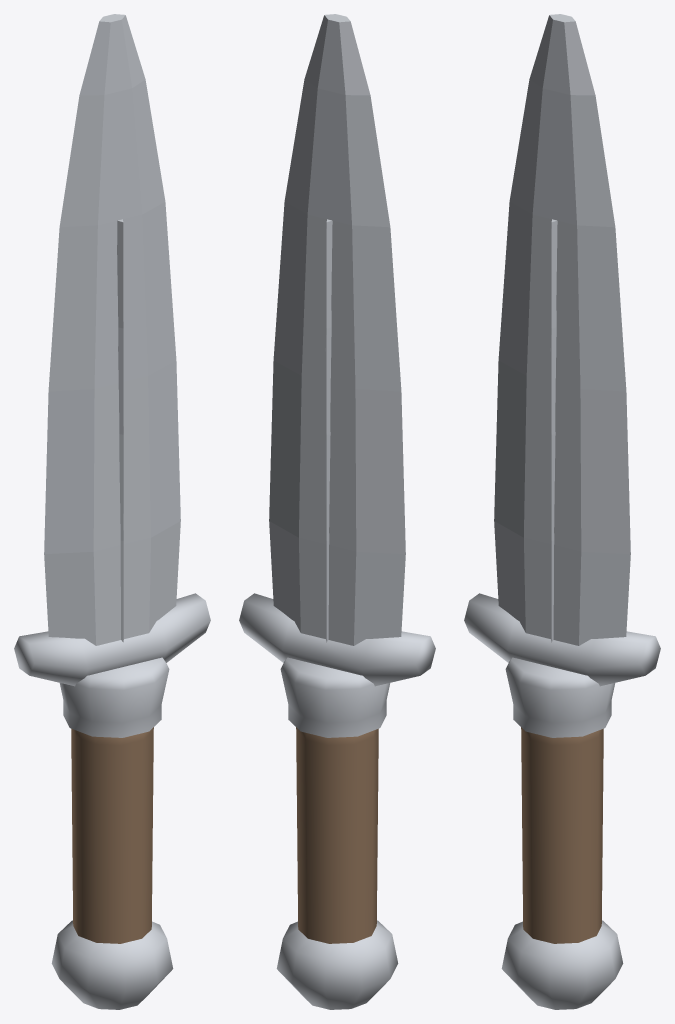
The model's file is wpn_dagger.glb.
3 views of the same model, side by side, from view 1: azimuth 30°, elevation 25°; view 2: azimuth 150°, elevation 25°; view 3: azimuth 330°, elevation 25° (orthographic).
Parts seen in each view (by area): view 1: wpn_dagger; view 2: wpn_dagger; view 3: wpn_dagger.
Boxes of the visible parts, bbox=[...] form: wpn_dagger: bbox=[14, 14, 210, 1009]; wpn_dagger: bbox=[239, 14, 435, 1009]; wpn_dagger: bbox=[464, 14, 660, 1009].
Bounding box in the file's own units: 0.08 × 0.425 × 0.0457.
